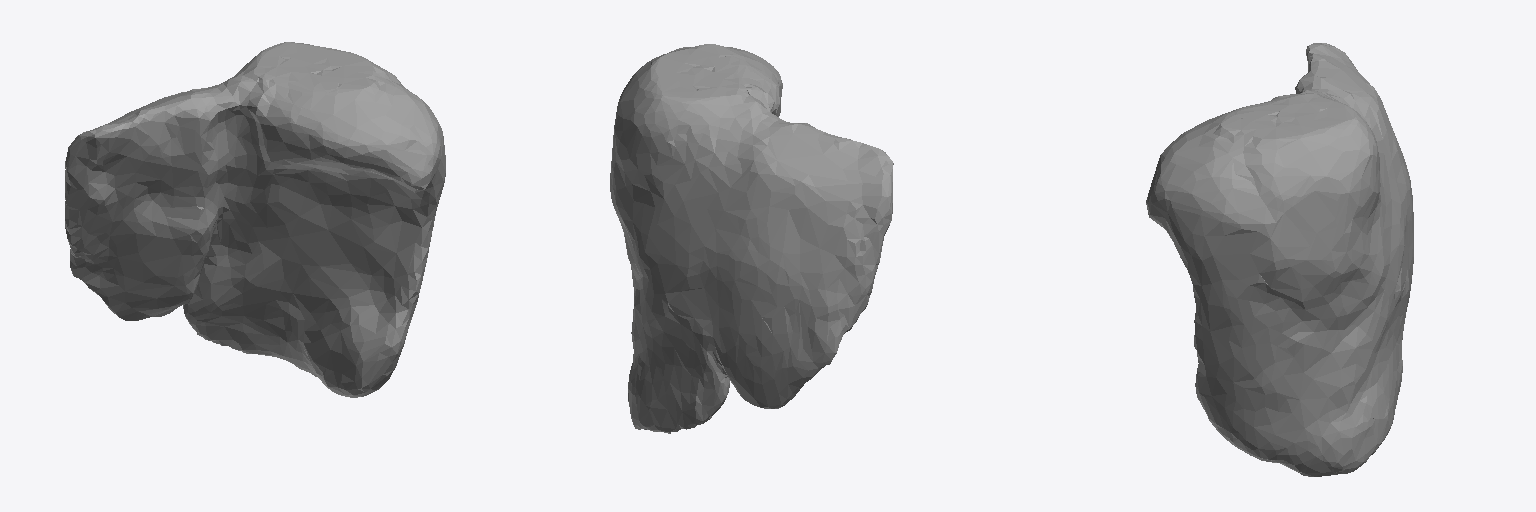
The model's file is KV1_liver.obj.
3 views of the same model, side by side, from view 1: azimuth 30°, elevation 25°; view 2: azimuth 150°, elevation 25°; view 3: azimuth 270°, elevation 25° (orthographic).
Visible parts, largest first — view 1: Liver; view 2: Liver; view 3: Liver.
Boxes of the visible parts, x1=… form: Liver: x1=65, y1=42, x2=445, y2=397; Liver: x1=610, y1=44, x2=893, y2=433; Liver: x1=1146, y1=43, x2=1413, y2=476.
Size of the model in its own units: 188 by 195 by 139.